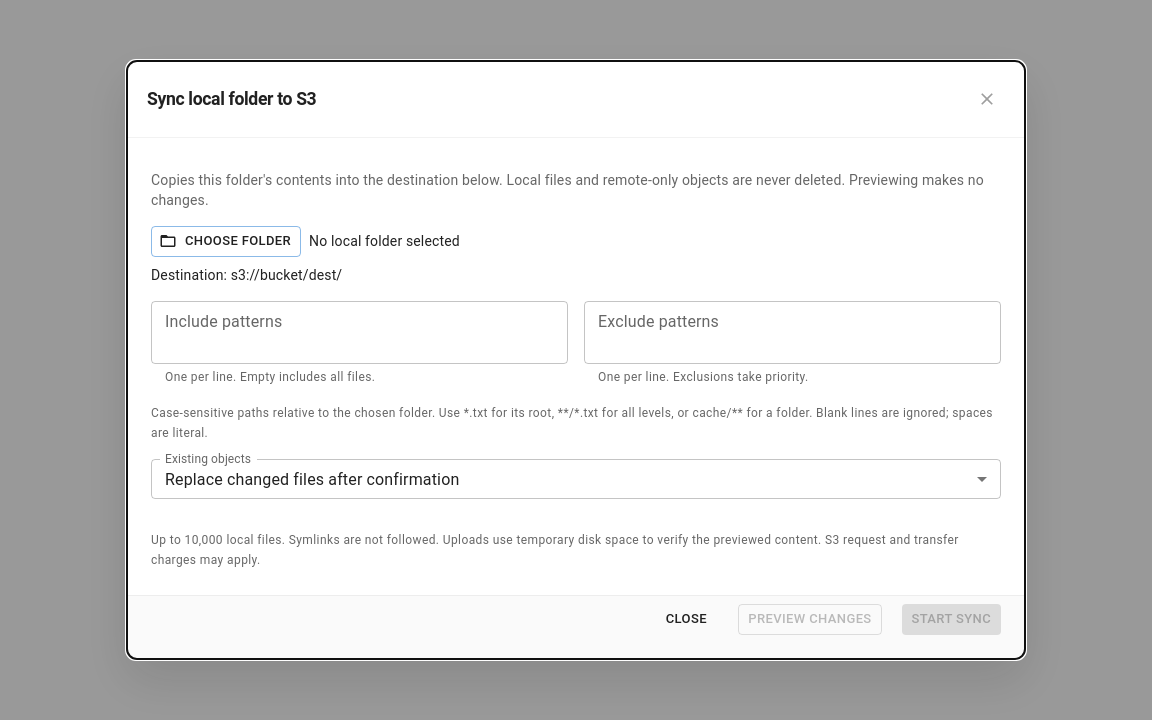
Test case: refreshing preview clears replacement approval
Click the button "Choose folder" at (226, 241), box [151,226,301,257]
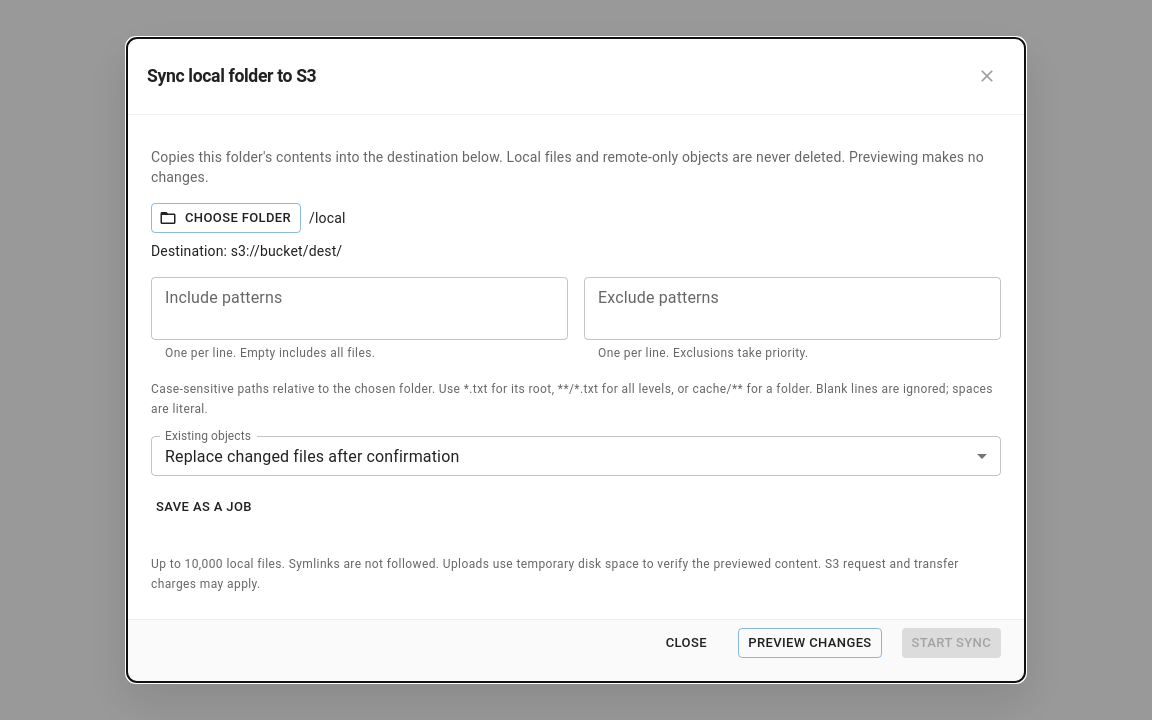
Now the text "/local" is shown, box [309,210,346,226]
Click the button "Preview changes" at (810, 643), box [738,628,882,658]
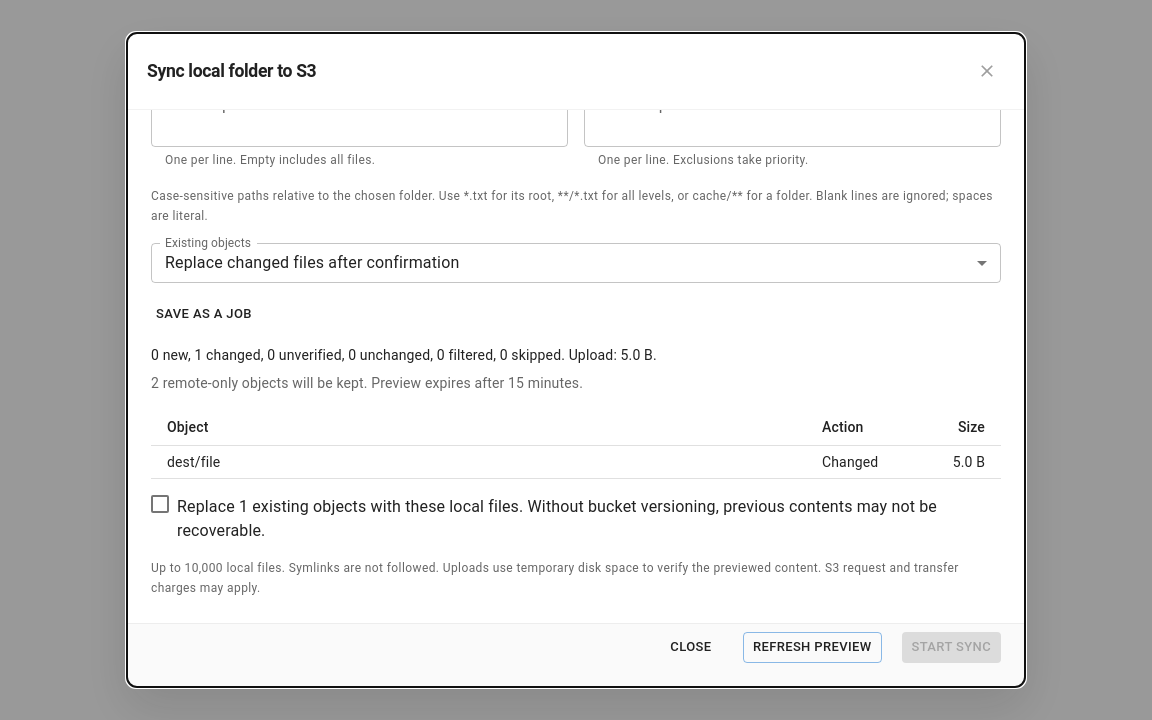
Now the text "dest/file" is shown, box [167,454,220,470]
Click the checkbox at (568, 519), box [151,495,985,543]
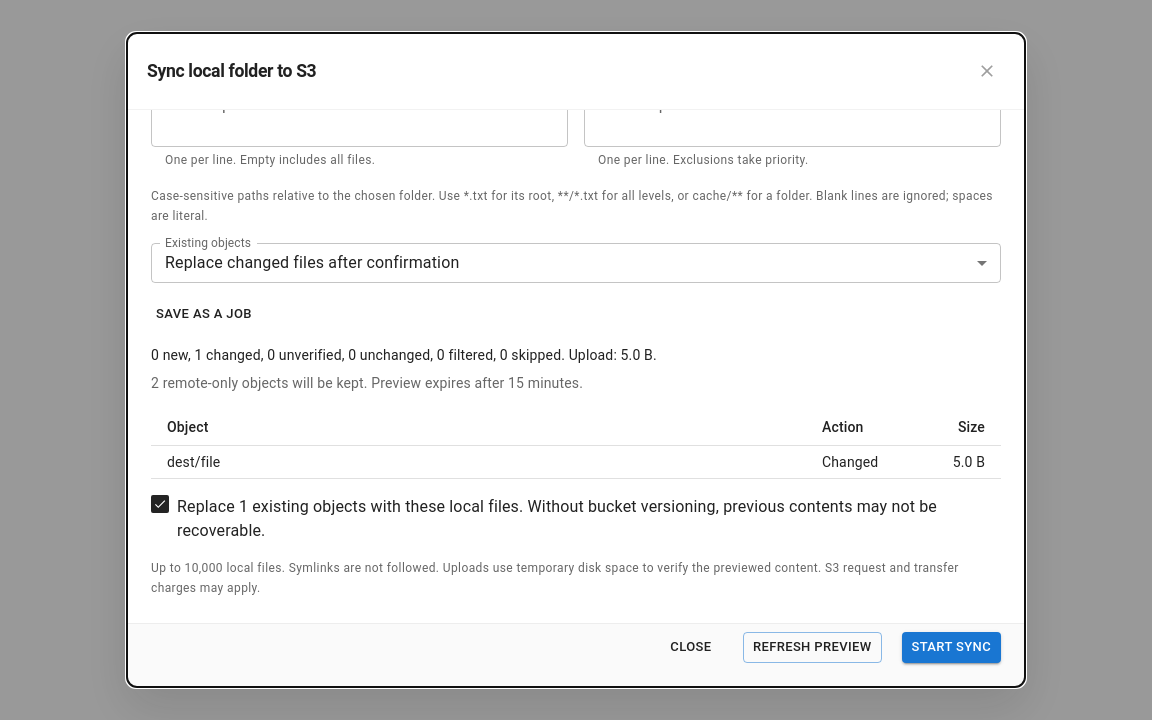
Click the button "Refresh preview" at (812, 648), box [743,632,882,663]
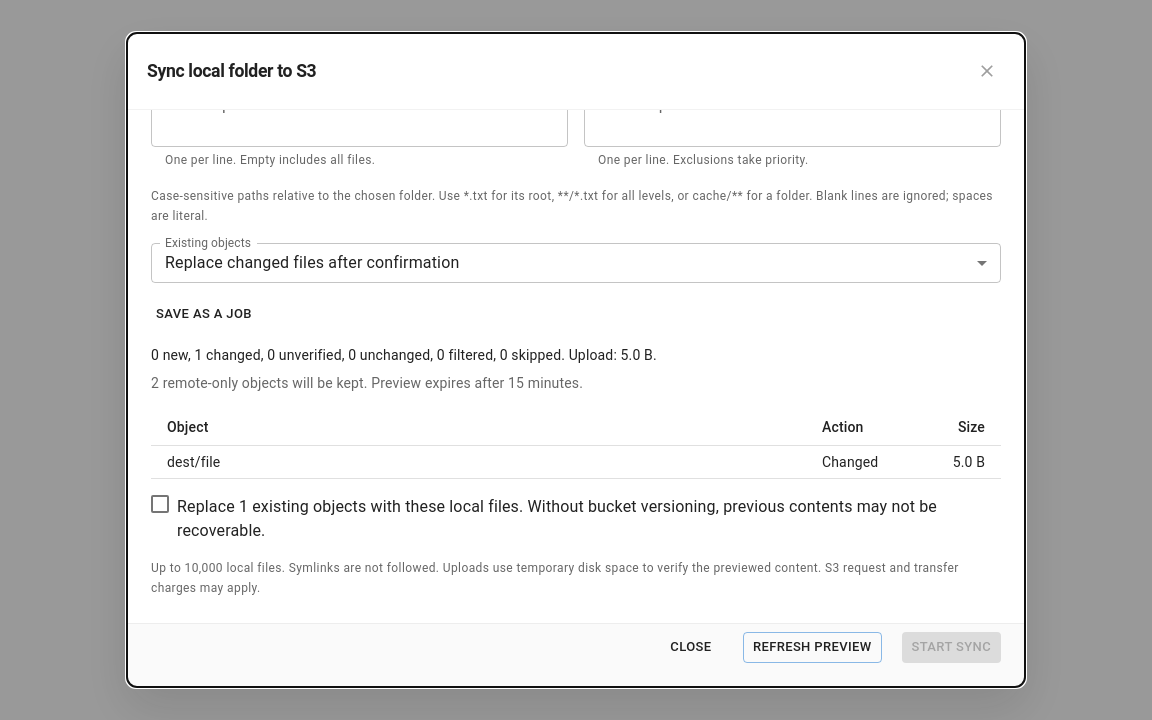
Now the text "dest/file" is shown, box [167,454,220,470]
Now the checkbox is not checked, box [151,495,985,543]
